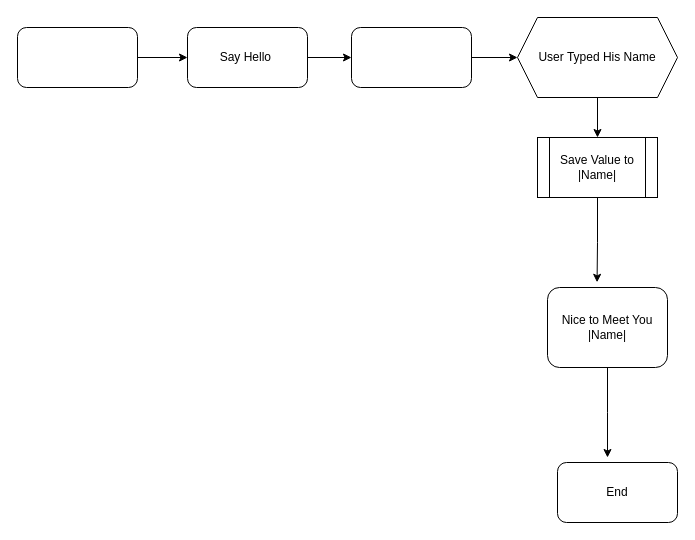
Image size: 695x540. Some labels were removed from this diagram. The box of each missing label's shape, as (x1, y1, x2, y2) in pixels:
Start: (16, 26, 138, 88)
What is your name: (350, 26, 472, 88)
